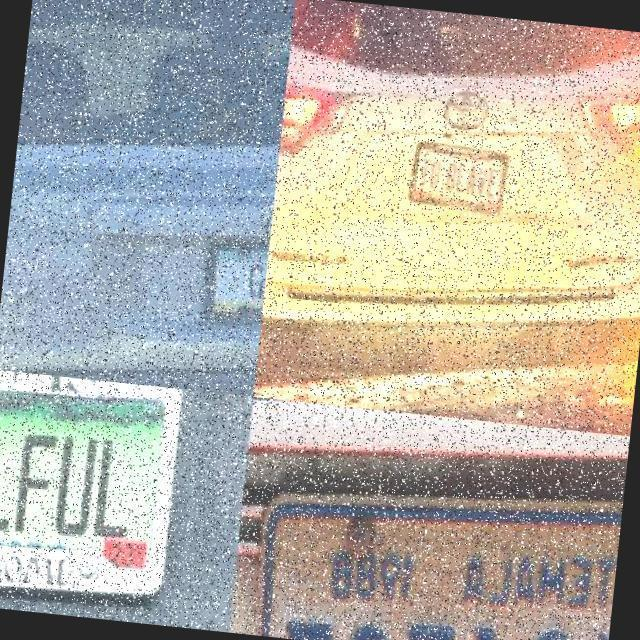License Plate: (0, 370, 182, 602), (270, 576, 610, 640), (407, 142, 510, 222), (203, 243, 269, 322)
